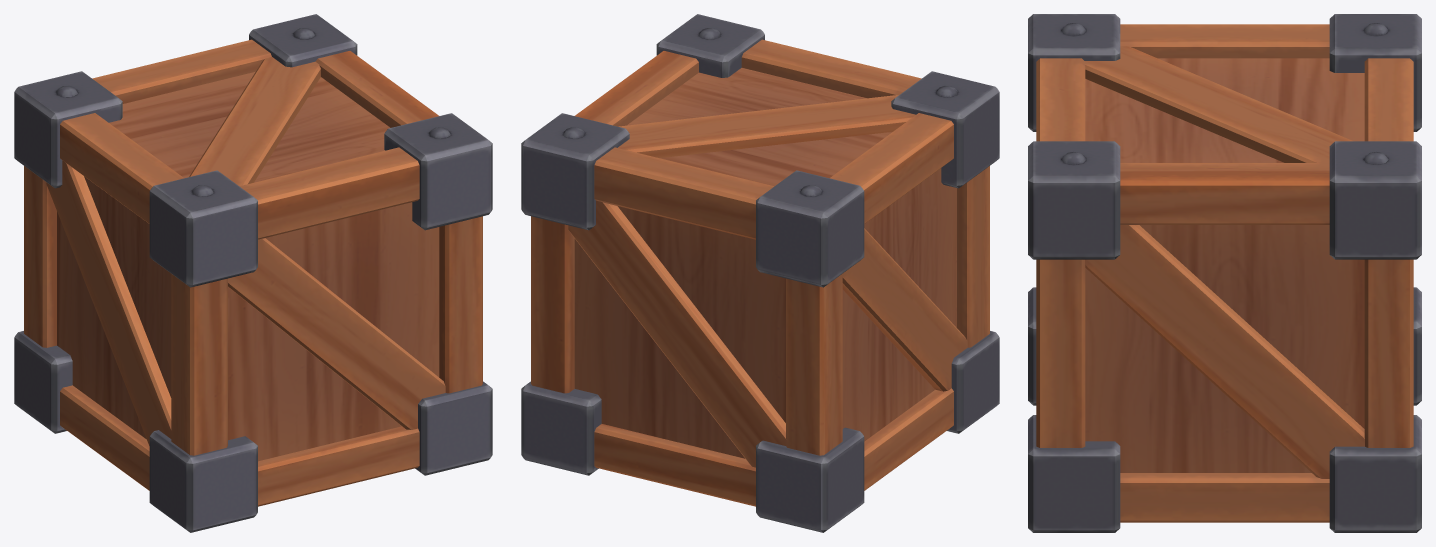
The model's file is wooden_crate.fbx.
3 renders of one model, left to right at view 1: azimuth 30°, elevation 25°; view 2: azimuth 150°, elevation 25°; view 3: azimuth 270°, elevation 25°, orthographic. The views are drawn at different scales.
Visible parts, largest first — view 1: Cube.016; view 2: Cube.016; view 3: Cube.016.
Boxes of the visible parts, box(x1,y1,x2,y2) form: Cube.016: box(14, 14, 492, 532); Cube.016: box(521, 14, 999, 532); Cube.016: box(1028, 14, 1421, 532).
Bounding box in the file's own units: 209 × 216 × 209.
